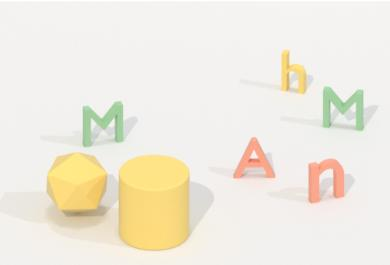0-KhoiTru: (115, 151, 192, 254)
0-TronCanh: (42, 150, 111, 217)
A: (230, 133, 279, 186)
M: (78, 97, 129, 150), (319, 82, 369, 136)
h: (277, 45, 310, 98)
n: (305, 158, 350, 207)
